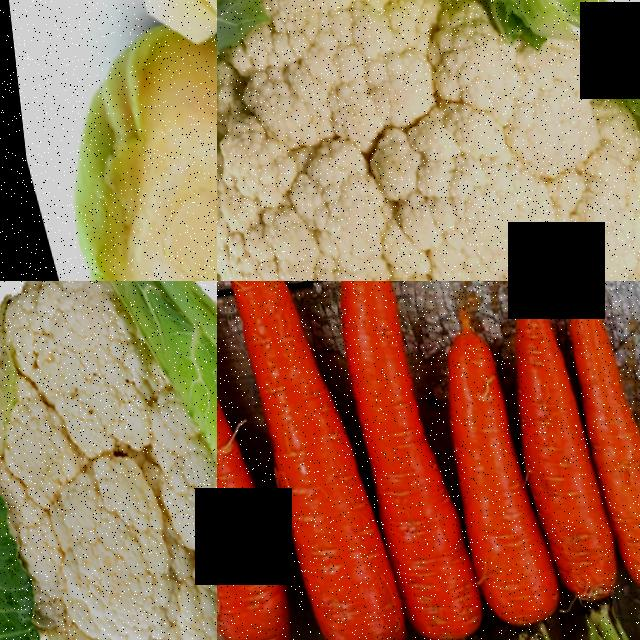carrot: (288, 281, 484, 640), (217, 281, 404, 640), (461, 281, 627, 640), (400, 281, 559, 640), (528, 281, 640, 640), (217, 281, 302, 640)
cauliflower: (217, 0, 640, 281), (0, 281, 217, 640)
chayote: (71, 134, 217, 281)
